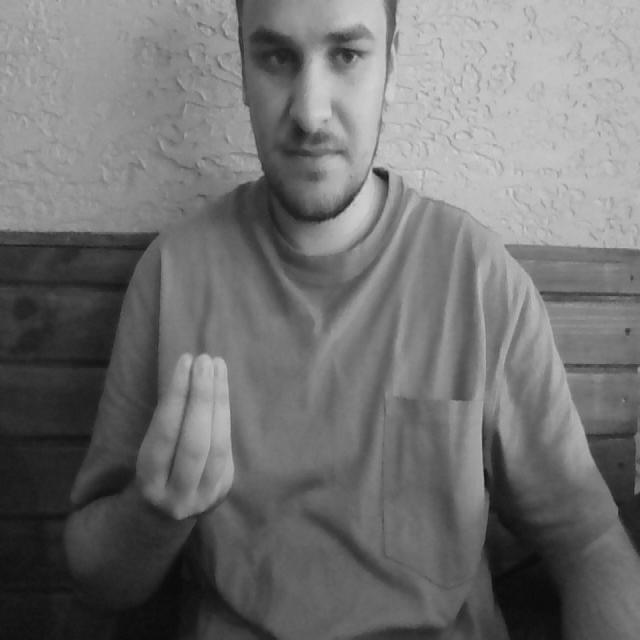iyi: (139, 337, 244, 537)
